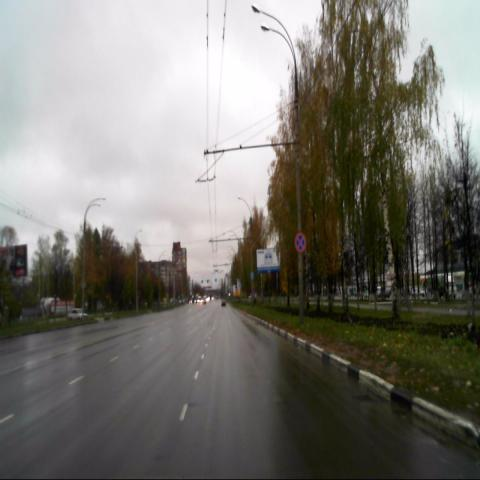3_27: (295, 232, 306, 253)
